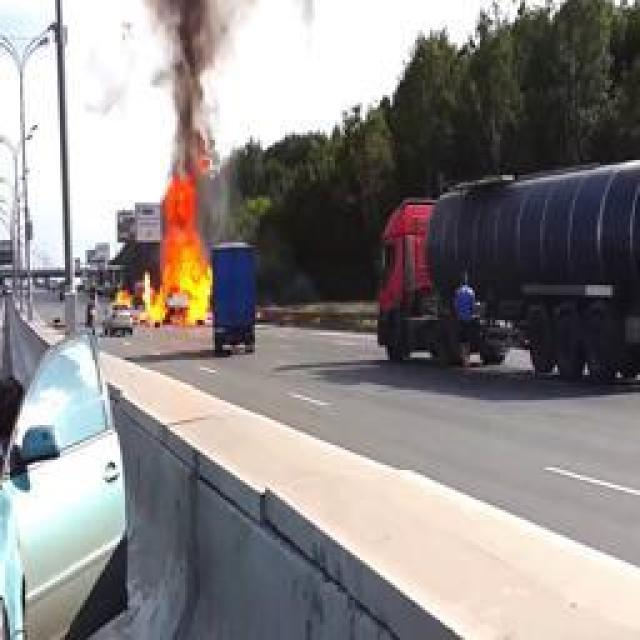Fire: (148, 171, 212, 324)
